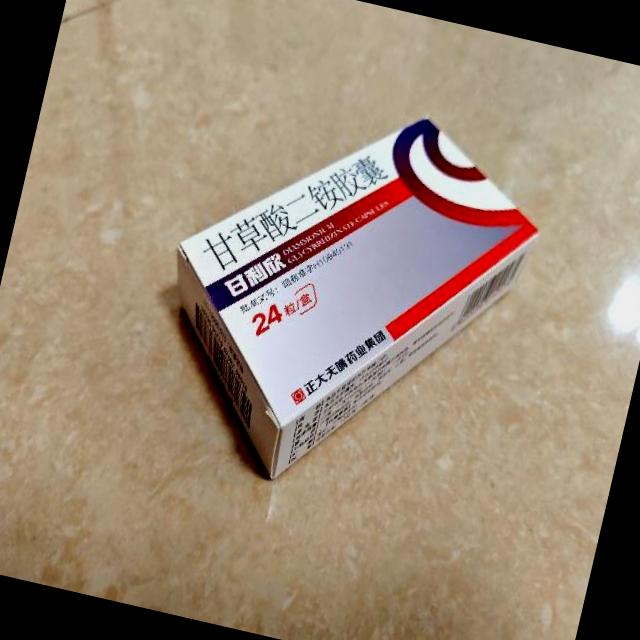box: (130, 66, 560, 528)
